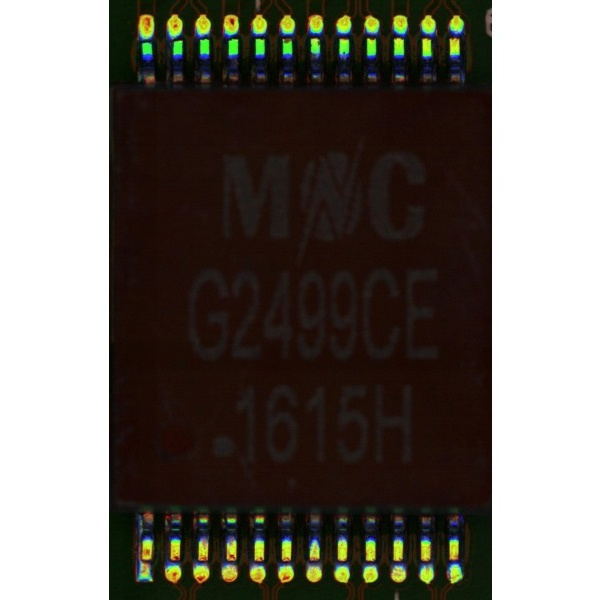Bad_podu: (140, 554, 149, 570)
Bad_qiaojiao: (137, 522, 141, 560)
